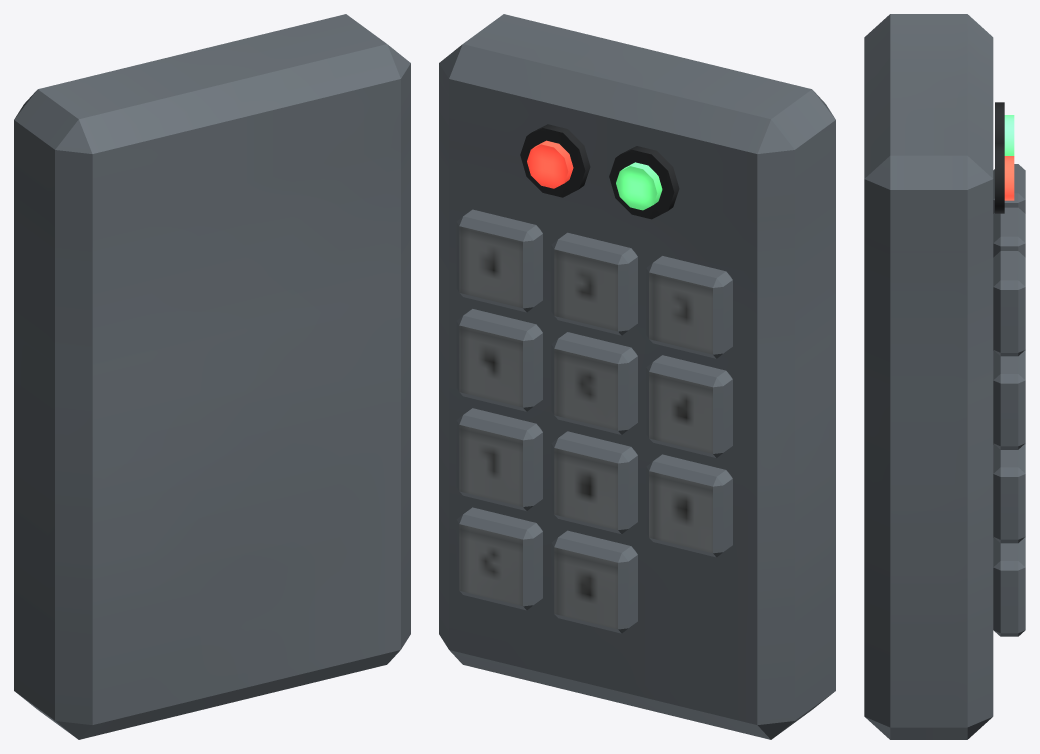
File: keypad_prison.fbx
3 renders of one model, left to right at view 1: azimuth 30°, elevation 25°; view 2: azimuth 150°, elevation 25°; view 3: azimuth 270°, elevation 25°, orthographic. The views are drawn at different scales.
Parts seen in each view (by area): view 1: keypad_prison; view 2: keypad_prison, keypad_prison_key_C, keypad_prison_lamp, keypad_prison_lamp_idle; view 3: keypad_prison, keypad_prison_key_C, keypad_prison_lamp_idle, keypad_prison_lamp.
Boxes of the visible parts, <box> form: keypad_prison: <box>14,14,410,739</box>; keypad_prison: <box>439,14,835,739</box>; keypad_prison_key_C: <box>456,507,542,610</box>; keypad_prison_lamp: <box>616,162,662,210</box>; keypad_prison_lamp_idle: <box>527,140,573,188</box>; keypad_prison: <box>864,14,1025,739</box>; keypad_prison_key_C: <box>993,537,1025,636</box>; keypad_prison_lamp_idle: <box>1004,156,1014,200</box>; keypad_prison_lamp: <box>1004,115,1014,155</box>.
Size of the model in its own units: 0.12 by 0.2 by 0.05.
1 material, 1 textured.
